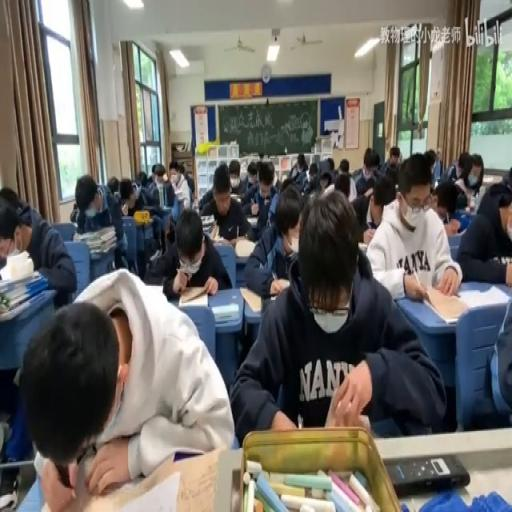calculator: (420, 283, 469, 321), (458, 284, 509, 310), (238, 282, 281, 312), (212, 300, 238, 322), (234, 236, 257, 258), (181, 292, 209, 307), (209, 222, 219, 240), (200, 213, 214, 225), (289, 238, 299, 253), (149, 246, 159, 260), (246, 214, 258, 224), (230, 193, 242, 202), (358, 240, 367, 250), (192, 200, 198, 212)
paper: (234, 189, 442, 440), (28, 269, 234, 506), (0, 185, 77, 309), (148, 206, 229, 299), (454, 171, 512, 283), (74, 174, 131, 273), (242, 158, 277, 235), (198, 161, 236, 212), (137, 163, 172, 212), (354, 148, 382, 195), (116, 176, 146, 218), (434, 180, 460, 220), (446, 148, 474, 181), (350, 192, 372, 230), (0, 209, 22, 240), (0, 186, 21, 209), (181, 164, 194, 200), (334, 171, 350, 196), (387, 146, 401, 166), (318, 182, 334, 199), (279, 176, 295, 192), (106, 176, 118, 196), (134, 171, 148, 186), (296, 152, 306, 172), (307, 184, 320, 199), (501, 171, 510, 192), (308, 160, 318, 178), (69, 202, 78, 222), (247, 168, 257, 185), (229, 164, 239, 180), (338, 158, 350, 171), (426, 149, 437, 162), (429, 160, 436, 178), (326, 156, 334, 170), (290, 163, 298, 175), (150, 169, 157, 182), (178, 162, 184, 175)
person: (386, 452, 470, 495), (0, 465, 19, 511)
